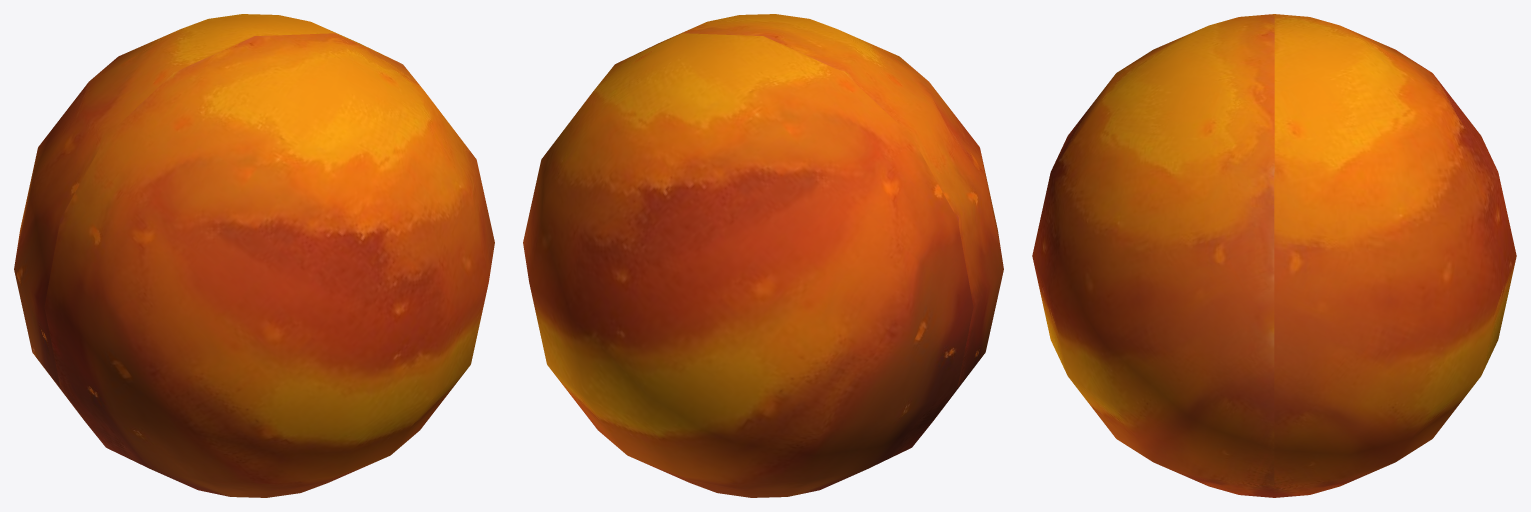
File: salsa.obj
3 renders of one model, left to right at view 1: azimuth 30°, elevation 25°; view 2: azimuth 150°, elevation 25°; view 3: azimuth 270°, elevation 25°, orthographic.
Visible parts, largest first — view 1: esfera; view 2: esfera; view 3: esfera.
Part boxes in pixels (box(x1,y1,x2,y2)): esfera: box(14, 14, 494, 497); esfera: box(523, 14, 1003, 497); esfera: box(1032, 14, 1516, 497).
Size of the model in its own units: 15.65 by 15.65 by 15.65.
Materials: 1 (1 with a texture image).
